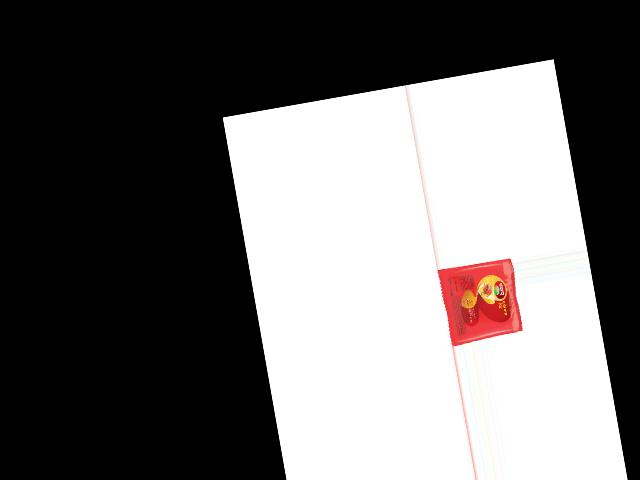cheese: (436, 256, 523, 344)
